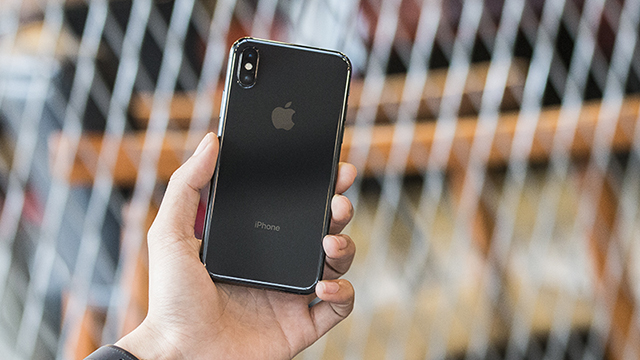iphone10: (195, 37, 351, 303)
